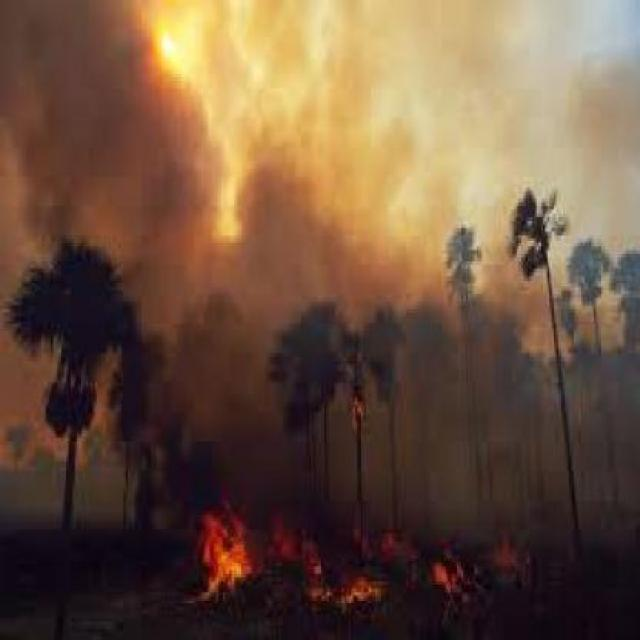Fire: (106, 480, 565, 640)
Smoke: (39, 0, 632, 417)
